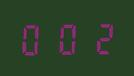two: (83, 19, 114, 55)
zero: (18, 20, 49, 56), (51, 20, 82, 55)
